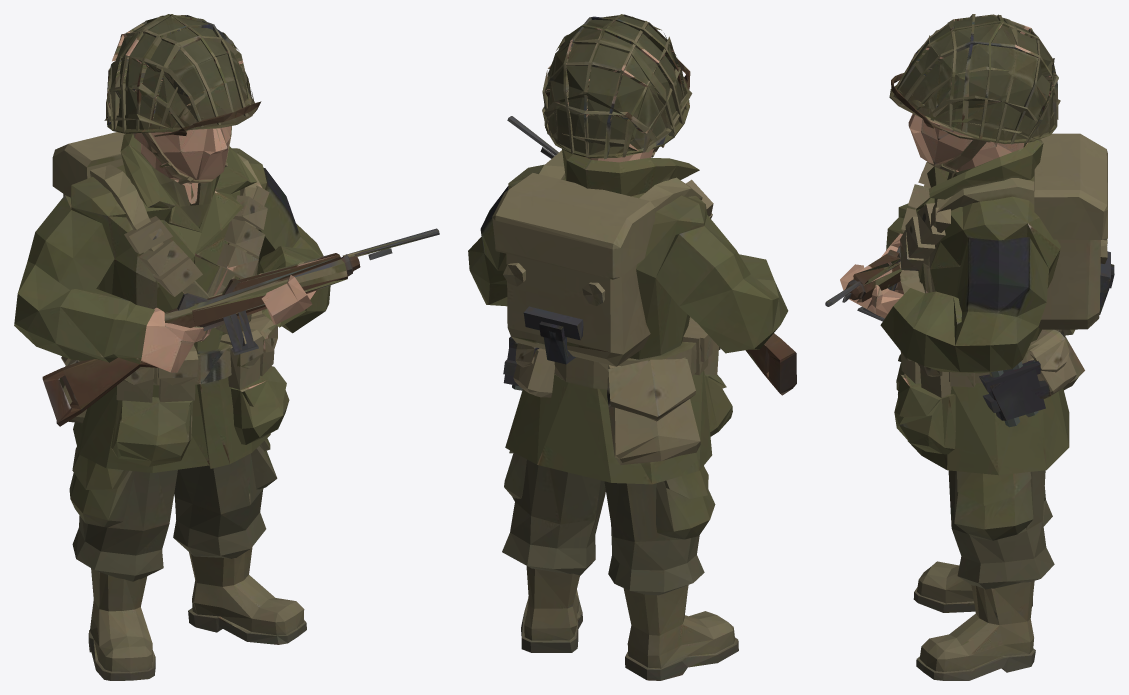
The model's file is bulge_us_airborne_0.glb.
3 views of the same model, side by side, from view 1: azimuth 30°, elevation 25°; view 2: azimuth 150°, elevation 25°; view 3: azimuth 270°, elevation 25° (orthographic). The views are drawn at different scales.
Visible parts, largest first — view 1: geometry_0; view 2: geometry_0; view 3: geometry_0.
Boxes of the visible parts, <box> form: geometry_0: <box>14,14,439,680</box>; geometry_0: <box>468,14,796,680</box>; geometry_0: <box>825,14,1114,680</box>.
Bounding box in the file's own units: 0.1873 × 0.324 × 0.1386.
1 material, 1 textured.
